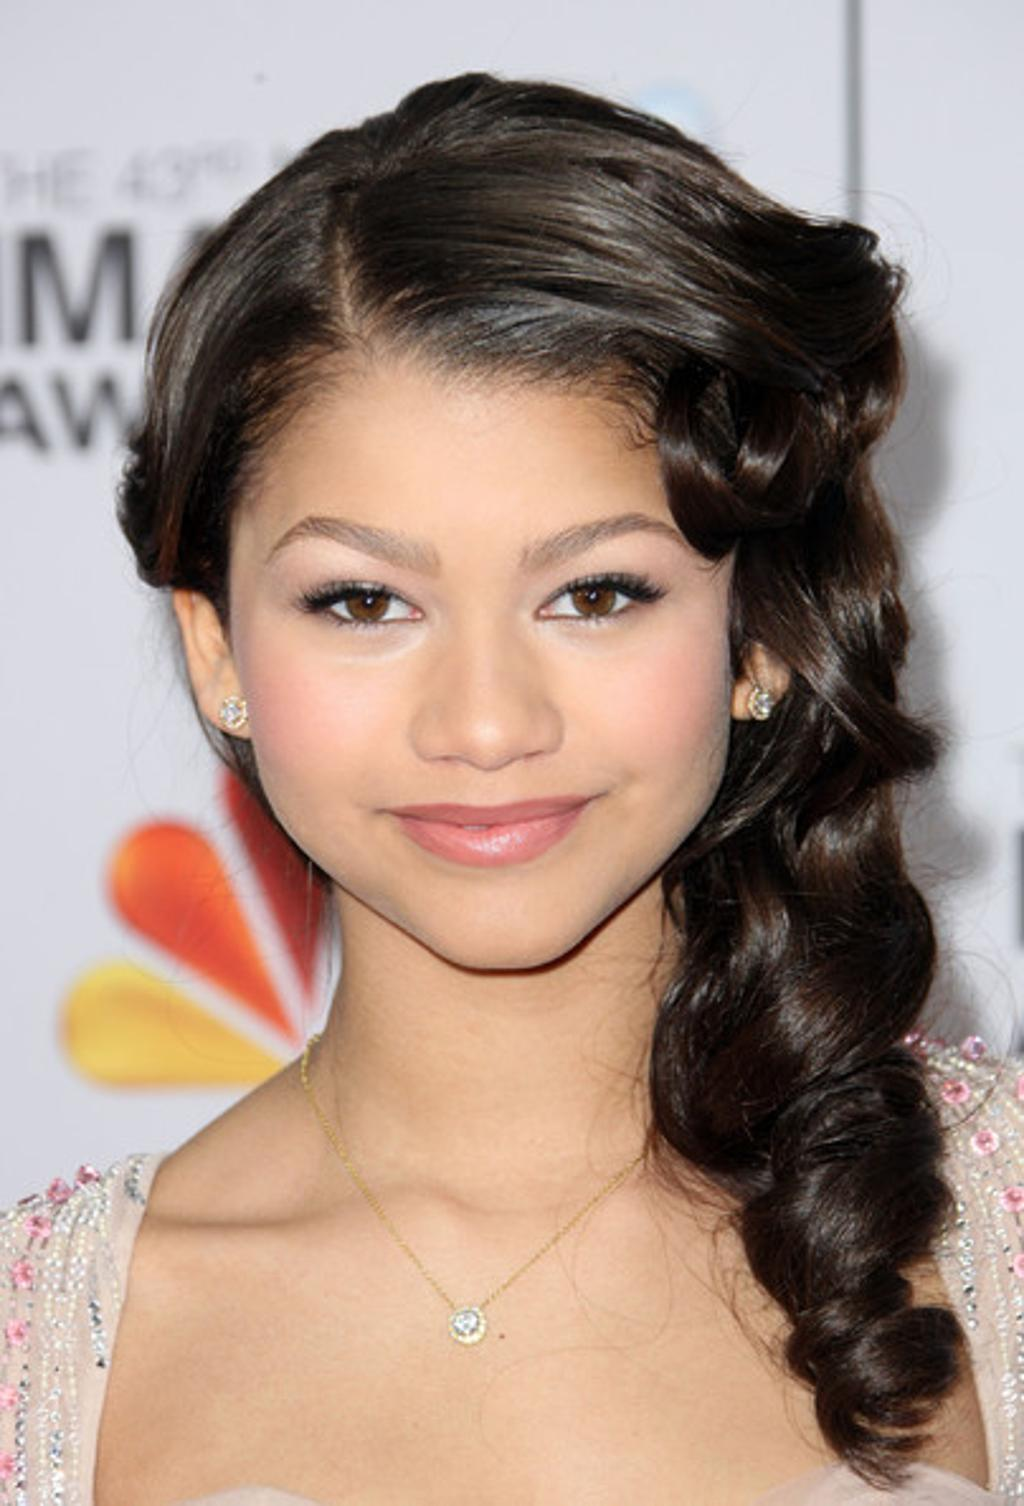face: (238, 306, 735, 971)
